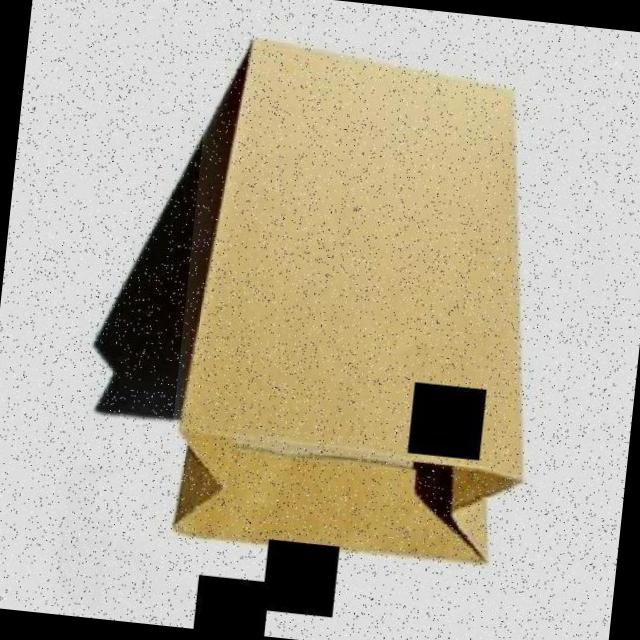box: (159, 37, 572, 590)
